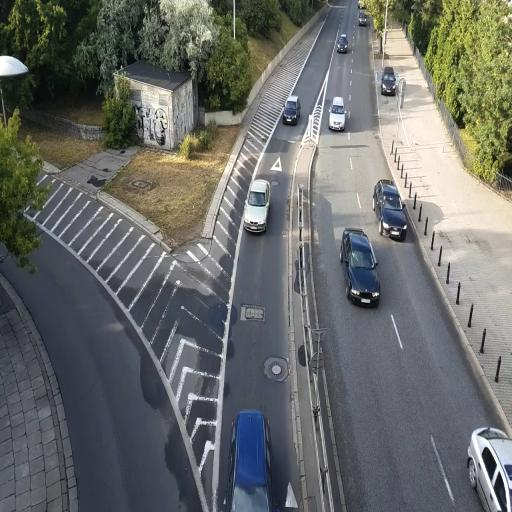vehicle: (228, 411, 272, 511), (467, 424, 512, 511), (344, 230, 381, 308), (242, 179, 272, 233), (378, 188, 408, 240), (372, 178, 402, 220), (379, 203, 407, 241), (373, 179, 395, 218), (328, 96, 346, 132), (380, 67, 398, 96), (282, 97, 300, 124), (336, 33, 349, 54)
